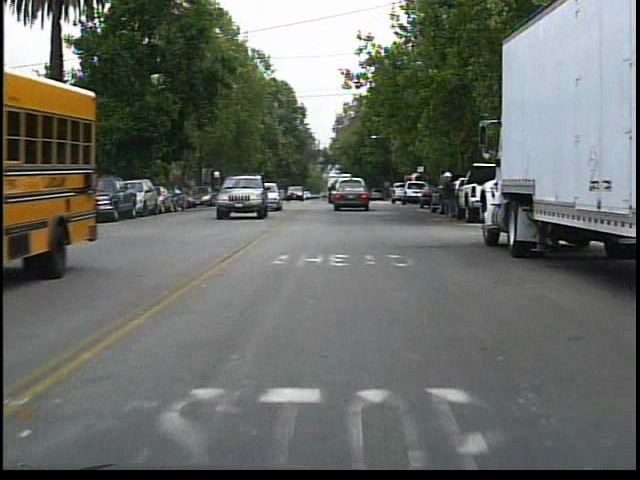person: (437, 169, 464, 224)
